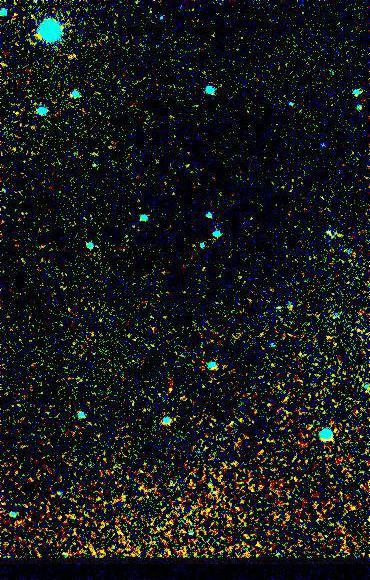star: (20, 103, 50, 133)
